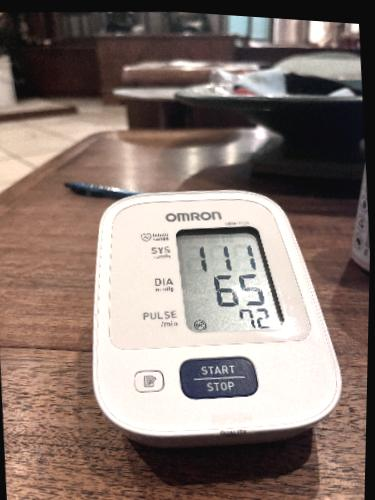bpm: (173, 216, 286, 344)
